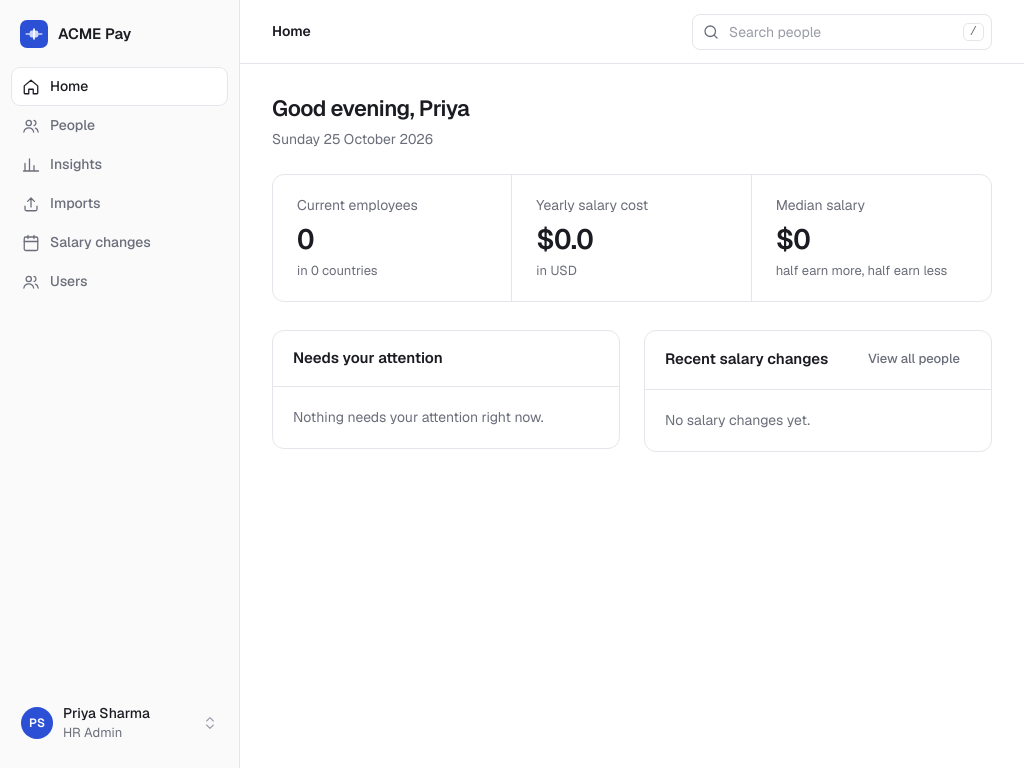
Test case: App › signing out shows the sign-in page and forgets the data
This screenshot has width=1024, height=768.
Click the text "Priya Sharma" at (106, 713), box [63,704,150,722]
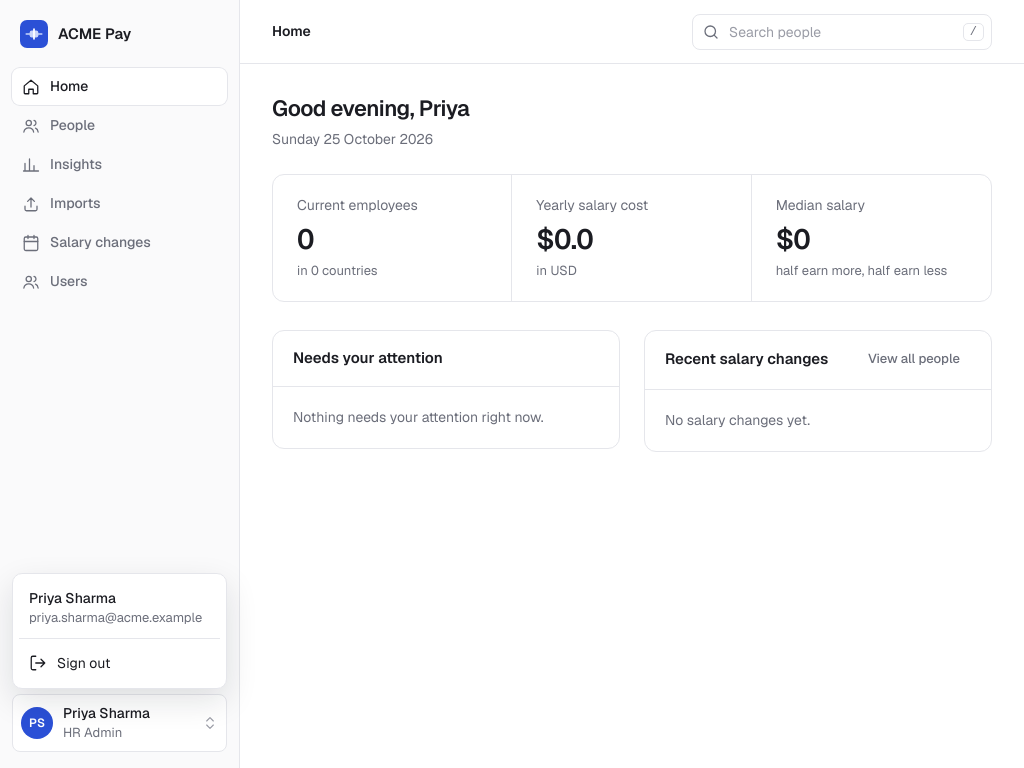
Click the menu item "Sign out" at (70, 663), box [29,654,110,672]
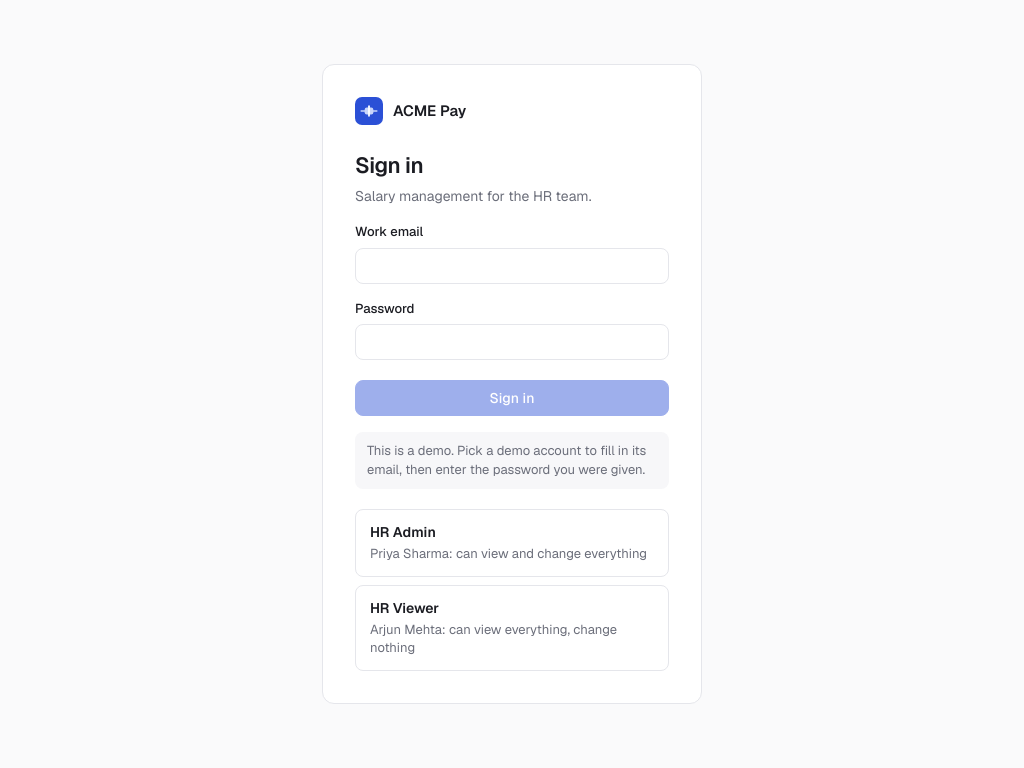
Now the heading "Sign in" is shown, box [355,151,423,179]
